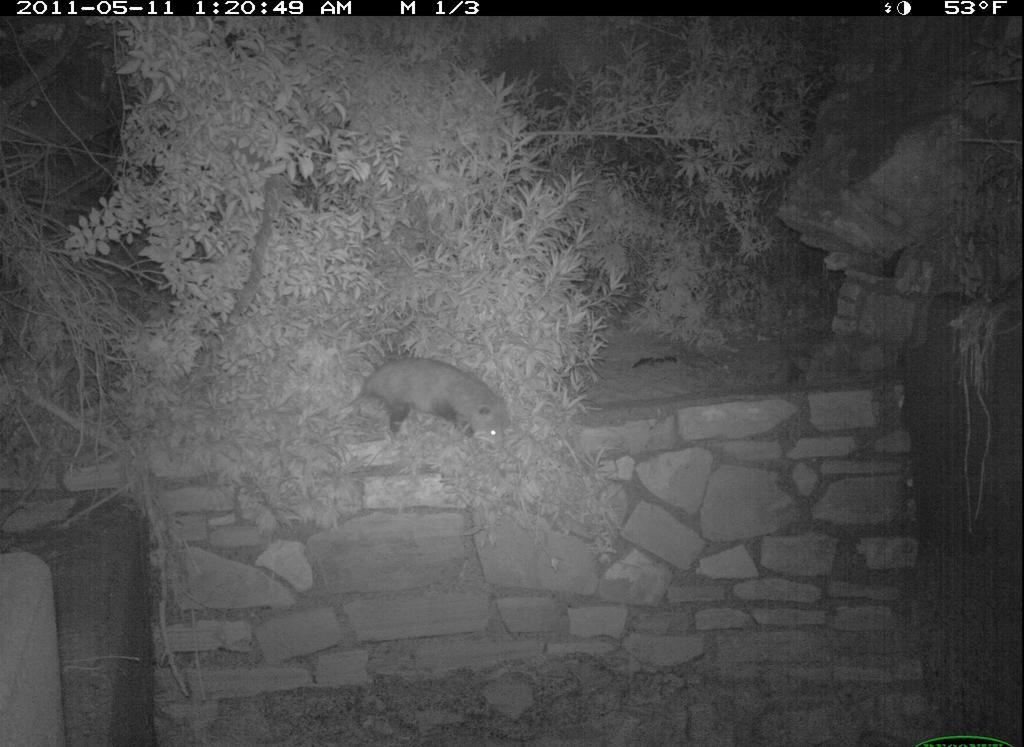opossum: (324, 347, 518, 454)
